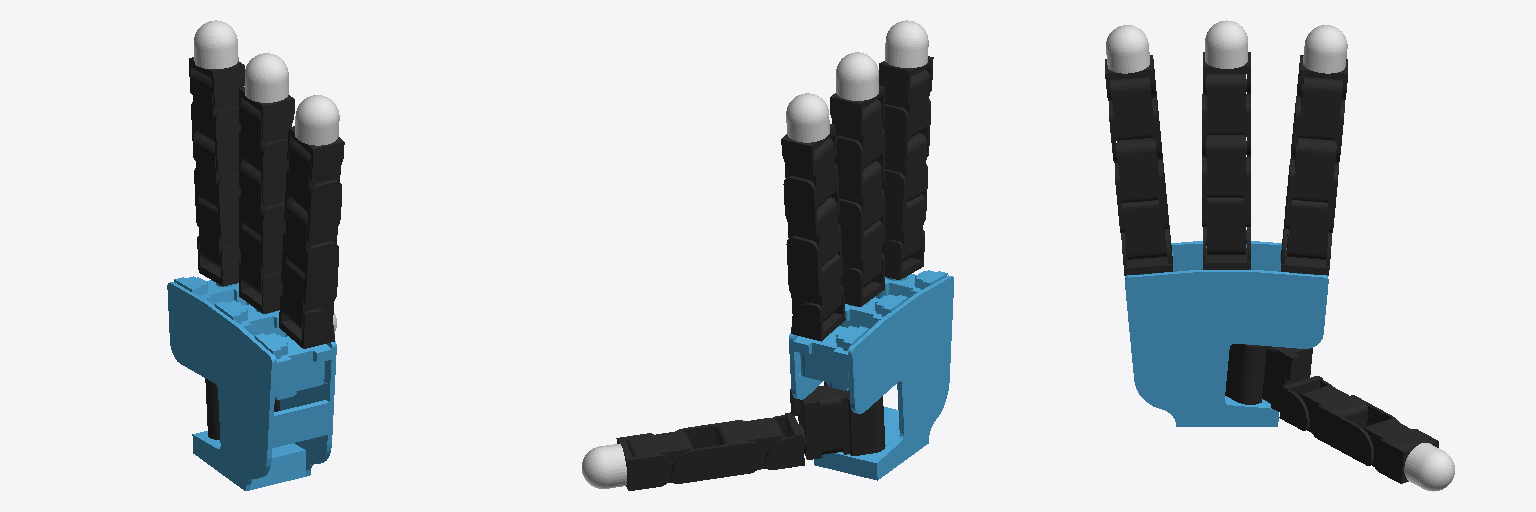
URDF robot description (allegro_hand_right):
<?xml version='1.0' encoding='utf-8'?>
<robot name="allegro_hand_right">

	<!-- Base link -->
	<link name="hand_root">
		<origin xyz="0 0 0" />
		<inertial>
			<origin xyz="0 0 0" />
			<mass value="0.1" />
			<inertia ixx="0.01" ixy="0.0" ixz="0.0" iyy="0.01" iyz="0.0" izz="0.01" />
		</inertial>
	</link>
	<joint name="root_to_base" type="fixed">
		<parent link="hand_root" />
		<child link="palm_link" />
		<origin xyz="0 0 0.095" />
	</joint>
	<!-- PALM -->
	<link name="palm_link">
		<visual>
			<geometry>
				<mesh filename="meshes/base_link.obj" />
			</geometry>
			<origin rpy="0 0 0" xyz="0 0 0 " />
		</visual>

		<!-- <collision>
			<geometry>
				<mesh filename="meshes/base_link.obj"/>
			</geometry>
		</collision> -->

		<!-- <collision>
			<origin rpy="0 0 0" xyz="-0.009300 0 -0.0475" />
			<geometry>
				<box size="0.0407 0.1125 0.093" />
			</geometry>
		</collision> -->

		<collision>
			<origin rpy="0 0 0" xyz="-0.009300 -0.015 -0.0475" />
			<geometry>
				<box size="0.0407 0.0785 0.093" />
			</geometry>
		</collision>

		<inertial>
			<origin rpy="0 0 0" xyz="0 0 0" />
			<mass value="0.4154" />
			<inertia ixx="0.00208916" ixy="-3.63457e-06" ixz="0.000223277" iyy="0.00182848" iyz="-1.75634e-05" izz="0.000482459" />
		</inertial>
	</link>
	<!-- Index -->
	<link name="index_0">
		<visual>
			<geometry>
				<mesh filename="meshes/link_0.0.obj" />
			</geometry>
			<material name="black" />
		</visual>
		<collision>
			<geometry>
				<!-- <box size="0.0196 0.0275 0.0164"/> -->
				<mesh filename="meshes/link_0.0.obj" />
			</geometry>
			<!-- <origin rpy="0 0 0" xyz="0 0 0.0082" /> -->
		</collision>
		<inertial>
			<mass value="0.0119" />
			<origin rpy="0 0 0" xyz="0 0 0" />
			<!-- <inertia ixx="1.95377e-06" ixy="3.03372e-09" ixz="8.92323e-08" iyy="1.17908e-06" iyz="-3.7069e-08" izz="1.49673e-06" /> -->
			<inertia ixx="1.95377e-03" ixy="3.03372e-06" ixz="8.92323e-05" iyy="1.17908e-03" iyz="-3.7069e-05" izz="1.49673e-03" />
		</inertial>
	</link>
	<joint name="joint_index_0" type="revolute">
		<axis xyz="0 0 1" />
		<limit effort="0.7" lower="-0.47" upper="0.47" velocity="7" />
		<parent link="palm_link" />
		<child link="index_0" />
		<origin rpy="-0.08726646255 0 0" xyz="0 0.0435 -0.001542" />
		<!-- <dynamics damping="1.5e-2" friction="10"/> -->
	</joint>
	<link name="index_1">
		<visual>
			<geometry>
				<mesh filename="meshes/link_1.0.obj" />
			</geometry>
			<material name="black" />
		</visual>
		<collision>
			<geometry>
				<!-- <box size="0.0196 0.0275 0.054"/> -->
				<mesh filename="meshes/link_1.0.obj" />
			</geometry>
			<!-- <origin rpy="0 0 0" xyz="0 0 0.027" /> -->
		</collision>
		<inertial>
			<mass value="0.065" />
			<origin rpy="0 0 0" xyz="0 0 0" />
			<!-- <inertia ixx="7.19218e-05" ixy="0" ixz="0" iyy="7.4377e-05" iyz="7.32186e-07" izz="5.40622e-06" /> -->
			<inertia ixx="7.19218e-02" ixy="0" ixz="0" iyy="7.4377e-02" iyz="7.32186e-04" izz="5.40622e-03" />
		</inertial>
	</link>
	<joint name="joint_index_1" type="revolute">
		<limit effort="0.7" lower="-0.196" upper="1.61" velocity="7" />
		<axis xyz="0 1 0" />
		<parent link="index_0" />
		<child link="index_1" />
		<origin xyz="0 0 0.0164" />
		<!-- <dynamics damping="1.5e-2" friction="5"/> -->
	</joint>
	<link name="index_2">
		<visual>
			<geometry>
				<mesh filename="meshes/link_2.0.obj" />
			</geometry>
			<material name="black" />
		</visual>
		<collision>
			<geometry>
				<mesh filename="meshes/link_2.0.obj" />
				<!-- <box size="0.0196 0.0275 0.0384"/> -->
			</geometry>
			<!-- <origin rpy="0 0 0" xyz="0 0 0.0192" /> -->
		</collision>
		<inertial>
			<mass value="0.0355" />
			<origin rpy="0 0 0" xyz="0 0 0" />
			<!-- <inertia ixx="3.16925e-05" ixy="1.07094e-09" ixz="-4.91273e-09" iyy="3.10516e-05" iyz="3.87549e-08" izz="3.20319e-06" /> -->
			<inertia ixx="3.16925e-02" ixy="1.07094e-06" ixz="-4.91273e-06" iyy="3.10516e-02" iyz="3.87549e-05" izz="3.20319e-03" />
		</inertial>
	</link>
	<joint name="joint_index_2" type="revolute">
		<axis xyz="0 1 0" />
		<limit effort="0.7" lower="-0.174" upper="1.709" velocity="7" />
		<parent link="index_1" />
		<child link="index_2" />
		<origin xyz="0 0 0.054" />
		<!-- <dynamics damping="1.5e-2" friction="10"/> -->
	</joint>
	<link name="index_3">
		<visual>
			<geometry>
				<mesh filename="meshes/link_3.0.obj" />
			</geometry>
			<material name="black" />
		</visual>
		<collision>
			<geometry>
				<!-- <box size="0.0196 0.0275 0.0267"/> -->
				<mesh filename="meshes/link_3.0.obj" />
			</geometry>
			<!-- <origin rpy="0 0 0" xyz="0 0 0.01335" /> -->
		</collision>
		<inertial>
			<mass value="0.0096" />
			<origin rpy="0 0 0" xyz="0 0 0" />
			<!-- <inertia ixx="2.13975e-06" ixy="1.59554e-09" ixz="-7.47528e-09" iyy="1.52036e-06" iyz="-9.89336e-09" izz="1.20271e-06" /> -->
			<inertia ixx="2.13975e-03" ixy="1.59554e-06" ixz="-7.47528e-06" iyy="1.52036e-03" iyz="-9.89336e-06" izz="1.20271e-03" />
		</inertial>
	</link>
	<joint name="joint_index_3" type="revolute">
		<axis xyz="0 1 0" />
		<limit effort="0.7" lower="-0.227" upper="1.618" velocity="7" />
		<parent link="index_2" />
		<child link="index_3" />
		<origin xyz="0 0 0.0384" />
		<!-- <dynamics damping="1.5e-2" friction="12"/> -->
	</joint>
	<link name="index_tip">
		<visual>
			<geometry>
				<mesh filename="meshes/link_3.0_tip.obj" />
			</geometry>
			<material name="white">
				<color rgba=".9 .9 .9 1" />
			</material>
		</visual>
		<collision>
			<geometry>
				<sphere radius="0.012" />
			</geometry>
		</collision>
		<inertial>
			<mass value="0.0168" />
			<origin rpy="0 0 0" xyz="0 0 0" />
			<!-- <inertia ixx="1.19599e-05" ixy="0" ixz="0" iyy="1.19598e-05" iyz="0" izz="1.10345e-06" /> -->
			<inertia ixx="1.19599e-02" ixy="0" ixz="0" iyy="1.19598e-02" iyz="0" izz="1.10345e-03" />
		</inertial>
	</link>
	<joint name="joint_index_tip" type="fixed">
		<parent link="index_3" />
		<child link="index_tip" />
		<origin rpy="0 0 0" xyz="0 0 0.0267" />
	</joint>

	<!-- Middle finger -->
	<link name="middle_0">
		<visual>
			<geometry>
				<mesh filename="meshes/link_0.0.obj" />
			</geometry>
			<material name="black" />
		</visual>
		<collision>
			<geometry>
				<!-- <box size="0.0196 0.0275 0.0164"/> -->
				<mesh filename="meshes/link_0.0.obj" />
			</geometry>
			<!-- <origin rpy="0 0 0" xyz="0 0 0.0082" /> -->
		</collision>
		<inertial>
			<mass value="0.0119" />
			<origin rpy="0 0 0" xyz="0 0 0" />
			<!-- <inertia ixx="1.95377e-06" ixy="3.03372e-09" ixz="8.92323e-08" iyy="1.17908e-06" iyz="-3.7069e-08" izz="1.49673e-06" /> -->
			<inertia ixx="1.95377e-03" ixy="3.03372e-06" ixz="8.92323e-05" iyy="1.17908e-03" iyz="-3.7069e-05" izz="1.49673e-03" />
		</inertial>
	</link>
	<joint name="joint_middle_0" type="revolute">
		<axis xyz="0 0 1" />
		<limit effort="0.7" lower="-0.47" upper="0.47" velocity="7" />
		<parent link="palm_link" />
		<child link="middle_0" />
		<origin rpy="0.0 0 0" xyz="0 0 0.0007" />
		<!-- <dynamics damping="1.5e-2" friction="10"/> -->
	</joint>
	<link name="middle_1">
		<visual>
			<geometry>
				<mesh filename="meshes/link_1.0.obj" />
			</geometry>
			<material name="black" />
		</visual>
		<collision>
			<geometry>
				<!-- <box size="0.0196 0.0275 0.054"/> -->
				<mesh filename="meshes/link_1.0.obj" />
			</geometry>
			<!-- <origin rpy="0 0 0" xyz="0 0 0.027" /> -->
		</collision>
		<inertial>
			<mass value="0.065" />
			<origin rpy="0 0 0" xyz="0 0 0" />
			<!-- <inertia ixx="7.19218e-05" ixy="0" ixz="0" iyy="7.4377e-05" iyz="7.32186e-07" izz="5.40622e-06" /> -->
			<inertia ixx="7.19218e-02" ixy="0" ixz="0" iyy="7.4377e-02" iyz="7.32186e-04" izz="5.40622e-03" />
		</inertial>
	</link>
	<joint name="joint_middle_1" type="revolute">
		<limit effort="0.7" lower="-0.196" upper="1.61" velocity="7" />
		<axis xyz="0 1 0" />
		<parent link="middle_0" />
		<child link="middle_1" />
		<origin xyz="0 0 0.0164" />
		<!-- <dynamics damping="1.5e-2" friction="5"/> -->
	</joint>
	<link name="middle_2">
		<visual>
			<geometry>
				<mesh filename="meshes/link_2.0.obj" />
			</geometry>
			<material name="black" />
		</visual>
		<collision>
			<geometry>
				<!-- <box size="0.0196 0.0275 0.0384"/> -->
				<mesh filename="meshes/link_2.0.obj" />
			</geometry>
			<!-- <origin rpy="0 0 0" xyz="0 0 0.0192" /> -->
		</collision>
		<inertial>
			<mass value="0.0355" />
			<origin rpy="0 0 0" xyz="0 0 0" />
			<!-- <inertia ixx="3.16925e-05" ixy="1.07094e-09" ixz="-4.91273e-09" iyy="3.10516e-05" iyz="3.87549e-08" izz="3.20319e-06" /> -->
			<inertia ixx="3.16925e-02" ixy="1.07094e-06" ixz="-4.91273e-06" iyy="3.10516e-02" iyz="3.87549e-05" izz="3.20319e-03" />
		</inertial>
	</link>
	<joint name="joint_middle_2" type="revolute">
		<axis xyz="0 1 0" />
		<limit effort="0.7" lower="-0.174" upper="1.709" velocity="7" />
		<parent link="middle_1" />
		<child link="middle_2" />
		<origin xyz="0 0 0.054" />
		<!-- <dynamics damping="1.5e-2" friction="10"/> -->
	</joint>
	<link name="middle_3">
		<visual>
			<geometry>
				<mesh filename="meshes/link_3.0.obj" />
			</geometry>
			<material name="black" />
		</visual>
		<collision>
			<geometry>
				<!-- <box size="0.0196 0.0275 0.0267"/> -->
				<mesh filename="meshes/link_3.0.obj" />
			</geometry>
			<!-- <origin rpy="0 0 0" xyz="0 0 0.01335" /> -->
		</collision>
		<inertial>
			<mass value="0.0096" />
			<origin rpy="0 0 0" xyz="0 0 0" />
			<!-- <inertia ixx="2.13975e-06" ixy="1.59554e-09" ixz="-7.47528e-09" iyy="1.52036e-06" iyz="-9.89336e-09" izz="1.20271e-06" /> -->
			<inertia ixx="2.13975e-03" ixy="1.59554e-06" ixz="-7.47528e-06" iyy="1.52036e-03" iyz="-9.89336e-06" izz="1.20271e-03" />
		</inertial>
	</link>
	<joint name="joint_middle_3" type="revolute">
		<axis xyz="0 1 0" />
		<limit effort="0.7" lower="-0.227" upper="1.618" velocity="7" />
		<parent link="middle_2" />
		<child link="middle_3" />
		<origin xyz="0 0 0.0384" />
		<!-- <dynamics damping="1.5e-2" friction="12"/> -->
	</joint>
	<link name="middle_tip">
		<visual>
			<geometry>
				<mesh filename="meshes/link_3.0_tip.obj" />
			</geometry>
			<material name="white">
				<color rgba=".9 .9 .9 1" />
			</material>
		</visual>
		<collision>
			<geometry>
				<sphere radius="0.012" />
				<!-- <sphere radius="0.01"/> -->
			</geometry>
		</collision>
		<inertial>
			<mass value="0.0168" />
			<origin rpy="0 0 0" xyz="0 0 0" />
			<!-- <inertia ixx="1.19599e-05" ixy="0" ixz="0" iyy="1.19598e-05" iyz="0" izz="1.10345e-06" /> -->
			<inertia ixx="1.19599e-02" ixy="0" ixz="0" iyy="1.19598e-02" iyz="0" izz="1.10345e-03" />
		</inertial>
	</link>
	<joint name="joint_middle_tip" type="fixed">
		<parent link="middle_3" />
		<child link="middle_tip" />
		<origin rpy="0 0 0" xyz="0 0 0.0267" />
	</joint>

	<!-- Ring finger -->
	<link name="ring_0">
		<visual>
			<geometry>
				<mesh filename="meshes/link_0.0.obj" />
			</geometry>
			<material name="black" />
		</visual>
		<collision>
			<geometry>
				<!-- <box size="0.0196 0.0275 0.0164"/> -->
				<mesh filename="meshes/link_0.0.obj" />
			</geometry>
			<!-- <origin rpy="0 0 0" xyz="0 0 0.0082" /> -->
		</collision>
		<inertial>
			<mass value="0.0119" />
			<origin rpy="0 0 0" xyz="0 0 0" />
			<!-- <inertia ixx="1.95377e-06" ixy="3.03372e-09" ixz="8.92323e-08" iyy="1.17908e-06" iyz="-3.7069e-08" izz="1.49673e-06" /> -->
			<inertia ixx="1.95377e-03" ixy="3.03372e-06" ixz="8.92323e-05" iyy="1.17908e-03" iyz="-3.7069e-05" izz="1.49673e-03" />
		</inertial>
	</link>
	<joint name="joint_ring_0" type="revolute">
		<axis xyz="0 0 1" />
		<limit effort="0.7" lower="-0.47" upper="0.47" velocity="7" />
		<parent link="palm_link" />
		<child link="ring_0" />
		<origin rpy="0.08726646255 0 0" xyz="0 -0.0435 -0.001542" />
		<!-- <dynamics damping="1.5e-2" friction="10"/> -->
	</joint>
	<link name="ring_1">
		<visual>
			<geometry>
				<mesh filename="meshes/link_1.0.obj" />
			</geometry>
			<material name="black" />
		</visual>
		<collision>
			<geometry>
				<!-- <box size="0.0196 0.0275 0.054"/> -->
				<mesh filename="meshes/link_1.0.obj" />
			</geometry>
			<!-- <origin rpy="0 0 0" xyz="0 0 0.027" /> -->
		</collision>
		<inertial>
			<mass value="0.065" />
			<origin rpy="0 0 0" xyz="0 0 0" />
			<!-- <inertia ixx="7.19218e-05" ixy="0" ixz="0" iyy="7.4377e-05" iyz="7.32186e-07" izz="5.40622e-06" /> -->
			<inertia ixx="7.19218e-02" ixy="0" ixz="0" iyy="7.4377e-02" iyz="7.32186e-04" izz="5.40622e-03" />
		</inertial>
	</link>
	<joint name="joint_ring_1" type="revolute">
		<limit effort="0.7" lower="-0.196" upper="1.61" velocity="7" />
		<axis xyz="0 1 0" />
		<parent link="ring_0" />
		<child link="ring_1" />
		<origin xyz="0 0 0.0164" />
		<!-- <dynamics damping="1.5e-2" friction="5"/> -->
	</joint>
	<link name="ring_2">
		<visual>
			<geometry>
				<mesh filename="meshes/link_2.0.obj" />
			</geometry>
			<material name="black" />
		</visual>
		<collision>
			<geometry>
				<!-- <box size="0.0196 0.0275 0.0384"/> -->
				<mesh filename="meshes/link_2.0.obj" />
			</geometry>
			<!-- <origin rpy="0 0 0" xyz="0 0 0.0192" /> -->
		</collision>
		<inertial>
			<mass value="0.0355" />
			<origin rpy="0 0 0" xyz="0 0 0" />
			<!-- <inertia ixx="3.16925e-05" ixy="1.07094e-09" ixz="-4.91273e-09" iyy="3.10516e-05" iyz="3.87549e-08" izz="3.20319e-06" /> -->
			<inertia ixx="3.16925e-02" ixy="1.07094e-06" ixz="-4.91273e-06" iyy="3.10516e-02" iyz="3.87549e-05" izz="3.20319e-03" />
		</inertial>
	</link>
	<joint name="joint_ring_2" type="revolute">
		<axis xyz="0 1 0" />
		<limit effort="0.7" lower="-0.174" upper="1.709" velocity="7" />
		<parent link="ring_1" />
		<child link="ring_2" />
		<origin xyz="0 0 0.054" />
		<!-- <dynamics damping="1.5e-2" friction="10"/> -->
	</joint>
	<link name="ring_3">
		<visual>
			<geometry>
				<mesh filename="meshes/link_3.0.obj" />
			</geometry>
			<material name="black" />
		</visual>
		<collision>
			<geometry>
				<!-- <box size="0.0196 0.0275 0.0267"/> -->
				<mesh filename="meshes/link_3.0.obj" />
			</geometry>
			<!-- <origin rpy="0 0 0" xyz="0 0 0.01335" /> -->
		</collision>
		<inertial>
			<mass value="0.0096" />
			<origin rpy="0 0 0" xyz="0 0 0" />
			<!-- <inertia ixx="2.13975e-06" ixy="1.59554e-09" ixz="-7.47528e-09" iyy="1.52036e-06" iyz="-9.89336e-09" izz="1.20271e-06" /> -->
			<inertia ixx="2.13975e-03" ixy="1.59554e-06" ixz="-7.47528e-06" iyy="1.52036e-03" iyz="-9.89336e-06" izz="1.20271e-03" />
		</inertial>
	</link>
	<joint name="joint_ring_3" type="revolute">
		<axis xyz="0 1 0" />
		<limit effort="0.7" lower="-0.227" upper="1.618" velocity="7" />
		<parent link="ring_2" />
		<child link="ring_3" />
		<origin xyz="0 0 0.0384" />
		<!-- <dynamics damping="1.5e-2" friction="12"/> -->
	</joint>
	<link name="ring_tip">
		<visual>
			<geometry>
				<mesh filename="meshes/link_3.0_tip.obj" />
			</geometry>
			<material name="white">
				<color rgba=".9 .9 .9 1" />
			</material>
		</visual>
		<collision>
			<geometry>
				<sphere radius="0.012" />
			</geometry>
		</collision>
		<inertial>
			<mass value="0.0168" />
			<origin rpy="0 0 0" xyz="0 0 0" />
			<!-- <inertia ixx="1.19599e-05" ixy="0" ixz="0" iyy="1.19598e-05" iyz="0" izz="1.10345e-06" /> -->
			<inertia ixx="1.19599e-02" ixy="0" ixz="0" iyy="1.19598e-02" iyz="0" izz="1.10345e-03" />
		</inertial>
	</link>
	<joint name="joint_ring_tip" type="fixed">
		<parent link="ring_3" />
		<child link="ring_tip" />
		<origin rpy="0 0 0" xyz="0 0 0.0267" />
	</joint>

	<!-- Thumb -->
	<link name="thumb_0">
		<visual>
			<geometry>
				<mesh filename="meshes/link_12.0_right.obj" />
			</geometry>
			<material name="black">
				<color rgba=".2 .2 .2 1" />
			</material>
			<origin rpy="0 0 0" xyz="0 0 0" />
		</visual>
		<collision>
			<geometry>
				<!-- <box size="0.0358 0.034 0.0455"/> -->
				<mesh filename="meshes/link_12.0_right.obj" />
			</geometry>
			<!-- <origin rpy="0 0 0" xyz="-0.0179 0.009 0.0145" /> -->
		</collision>
		<inertial>
			<mass value="0.0176" />
			<origin rpy="0 0 0" xyz="0 0 0" />
			<!-- <inertia ixx="8.13883e-06" ixy="2.55226e-06" ixz="3.89933e-06" iyy="1.31421e-05" iyz="-1.46267e-06" izz="1.00171e-05" /> -->
			<inertia ixx="8.13883e-03" ixy="2.55226e-03" ixz="3.89933e-03" iyy="1.31421e-02" iyz="-1.46267e-03" izz="1.00171e-02" />
		</inertial>
	</link>
	<!-- Thumb  -->
	<joint name="joint_thumb_0" type="revolute">
		<!-- Reversed Axis -->
		<axis xyz="-1 0 0" />
		<limit effort="0.7" lower="0.263" upper="1.396" velocity="7" />
		<parent link="palm_link" />
		<child link="thumb_0" />
		<origin rpy="0 -1.65806278845 -1.5707963259" xyz="-0.0182 0.019333 -0.045987" />
		<!-- <dynamics damping="1.5e-2" friction="10"/> -->
	</joint>
	<link name="thumb_1">
		<visual>
			<geometry>
				<mesh filename="meshes/link_13.0.obj" />
			</geometry>
			<material name="black">
				<color rgba=".2 .2 .2 1" />
			</material>
		</visual>
		<collision>
			<geometry>
				<!-- <box size="0.0196 0.0275 0.0177"/> -->
				<mesh filename="meshes/link_13.0.obj" />
			</geometry>
			<!-- <origin rpy="0 0 0" xyz="0 0 0.00885" /> -->
		</collision>
		<inertial>
			<mass value="0.0119" />
			<origin rpy="0 0 0" xyz="0 0 0" />
			<!-- <inertia ixx="1.9263e-06" ixy="3.05433e-09" ixz="8.86582e-08" iyy="1.15276e-06" iyz="-3.64521e-08" izz="1.4957e-06" /> -->
			<inertia ixx="1.9263e-03" ixy="3.05433e-06" ixz="8.86582e-05" iyy="1.15276e-03" iyz="-3.64521e-05" izz="1.4957e-03" />
		</inertial>
	</link>
	<joint name="joint_thumb_1" type="revolute">
		<axis xyz="0 0 1" />
		<limit effort="0.7" lower="-0.105" upper="1.163" velocity="7" />
		<parent link="thumb_0" />
		<child link="thumb_1" />
		<origin xyz="-0.027 0.005 0.0399" />
		<!-- <dynamics damping="1.5e-2" friction="5"/> -->
	</joint>
	<link name="thumb_2">
		<visual>
			<geometry>
				<mesh filename="meshes/link_14.0.obj" />
			</geometry>
			<material name="black">
				<color rgba=".2 .2 .2 1" />
			</material>
		</visual>
		<collision>
			<geometry>
				<!-- <box size="0.0196 0.0275 0.0514"/> -->
				<mesh filename="meshes/link_14.0.obj" />
			</geometry>
			<!-- <origin rpy="0 0 0" xyz="0 0 0.0257" /> -->
		</collision>
		<inertial>
			<mass value="0.038" />
			<origin rpy="0 0 0" xyz="0 0 0" />
			<!-- <inertia ixx="3.67044e-05" ixy="1.02277e-09" ixz="1.4854e-07" iyy="3.54042e-05" iyz="-3.67203e-08" izz="3.63275e-06" /> -->
			<inertia ixx="3.67044e-02" ixy="1.02277e-06" ixz="1.4854e-04" iyy="3.54042e-02" iyz="-3.67203e-05" izz="3.63275e-03" />
		</inertial>
	</link>
	<joint name="joint_thumb_2" type="revolute">
		<axis xyz="0 1 0" />
		<limit effort="0.7" lower="-0.189" upper="1.644" velocity="7" />
		<parent link="thumb_1" />
		<child link="thumb_2" />
		<origin xyz="0 0 0.0177" />
		<!-- <dynamics damping="1.5e-2" friction="10"/> -->
	</joint>
	<link name="thumb_3">
		<visual>
			<geometry>
				<mesh filename="meshes/link_15.0.obj" />
			</geometry>
			<material name="black">
			</material>
		</visual>
		<collision>
			<geometry>
				<!-- <box size="0.0196 0.0275 0.0423"/> -->
				<mesh filename="meshes/link_15.0.obj" />
			</geometry>
			<!-- <origin rpy="0 0 0" xyz="0 0 0.02115" /> -->
		</collision>
		<inertial>
			<mass value="0.0388" />
			<origin rpy="0 0 0" xyz="0 0 0" />
			<!-- <inertia ixx="4.30919e-05" ixy="0" ixz="0" iyy="3.85425e-05" iyz="-3.0146e-08" izz="1.72974e-05" /> -->
			<inertia ixx="4.30919e-02" ixy="0" ixz="0" iyy="3.85425e-02" iyz="-3.0146e-05" izz="1.72974e-02" />
		</inertial>
	</link>
	<joint name="joint_thumb_3" type="revolute">
		<axis xyz="0 1 0" />
		<limit effort="0.7" lower="-0.162" upper="1.719" velocity="7" />
		<parent link="thumb_2" />
		<child link="thumb_3" />
		<origin xyz="0 0 0.0514" />
		<!-- <dynamics damping="1.5e-2" friction="12"/> -->
	</joint>
	<link name="thumb_tip">
		<visual>
			<geometry>
				<mesh filename="meshes/link_15.0_tip.obj" />
			</geometry>
			<material name="white">
				<color rgba=".9 .9 .9 1" />
			</material>
		</visual>
		<collision>
			<geometry>
				<sphere radius="0.012" />
			</geometry>
			<origin rpy="0 0 0" xyz="0 0 0" />
		</collision>
		<inertial>
			<mass value="0.0168" />
			<origin rpy="0 0 0" xyz="0 0 0" />
			<!-- <inertia ixx="1.19599e-05" ixy="0" ixz="0" iyy="1.19598e-05" iyz="0" izz="1.10345e-06" /> -->
			<inertia ixx="1.19599e-02" ixy="0" ixz="0" iyy="1.19598e-02" iyz="0" izz="1.10345e-03" />
		</inertial>
	</link>
	<joint name="joint_thumb_tip" type="fixed">
		<parent link="thumb_3" />
		<child link="thumb_tip" />
		<origin rpy="0 0 0" xyz="0 0 0.0423" />
	</joint>

</robot>

--- Facts derived from the render (not from the file) ---
The picture shows the robot from 3 angles, left to right: view 1: azimuth 30°, elevation 25°; view 2: azimuth 150°, elevation 25°; view 3: azimuth 270°, elevation 25°; orthographic projection.
Model allegro_hand_right with 22 links and 21 joints (16 revolute, 5 fixed), rooted at hand_root, posed all joints at 0 but 1 set to mid-range because 0 is outside their limits (joint_thumb_0 = 0.8295).
Visible links, largest first — view 1: palm_link, ring_1, index_1, middle_1, ring_2, index_2, middle_2, ring_tip, middle_tip, index_tip, ring_0, index_3 (+5 smaller); view 2: palm_link, thumb_2, thumb_0, index_1, middle_1, ring_1, index_2, thumb_3, middle_2, ring_2, index_tip, middle_tip (+9 smaller); view 3: palm_link, index_1, ring_1, middle_1, thumb_0, thumb_2, index_2, ring_2, middle_2, thumb_3, thumb_tip, index_tip (+9 smaller).
Link boxes in pixels (x1,y1,x2,y2): palm_link: (167,276,336,490); ring_1: (281,201,338,329); index_1: (194,136,240,267); middle_1: (239,164,285,294); ring_2: (284,141,341,244); index_2: (191,71,240,174); middle_2: (239,101,291,205); ring_tip: (295,95,339,145); middle_tip: (245,53,288,102); index_tip: (194,20,238,68); ring_0: (279,292,334,348); index_3: (189,57,244,108); palm_link: (789,270,953,480); thumb_2: (671,418,784,483); thumb_0: (790,382,885,459); index_1: (786,197,842,321); middle_1: (838,161,884,287); ring_1: (882,133,927,261); index_2: (783,138,839,239); thumb_3: (616,431,693,490); middle_2: (832,99,884,201); ring_2: (882,70,930,171); index_tip: (786,93,829,142); middle_tip: (836,52,878,100); palm_link: (1125,241,1328,426); index_1: (1284,138,1338,259); ring_1: (1115,138,1168,259); middle_1: (1202,135,1250,254); thumb_0: (1225,344,1312,411); thumb_2: (1299,385,1399,465); index_2: (1291,77,1344,162); ring_2: (1109,77,1162,162); middle_2: (1202,74,1250,156); thumb_3: (1362,419,1438,483); thumb_tip: (1404,443,1454,491); index_tip: (1303,25,1347,73).
Size in the robot's own frame: 0.1383 by 0.1948 by 0.2432 metres.
21 mesh visuals loaded from 11 distinct referenced files (11 OBJ).